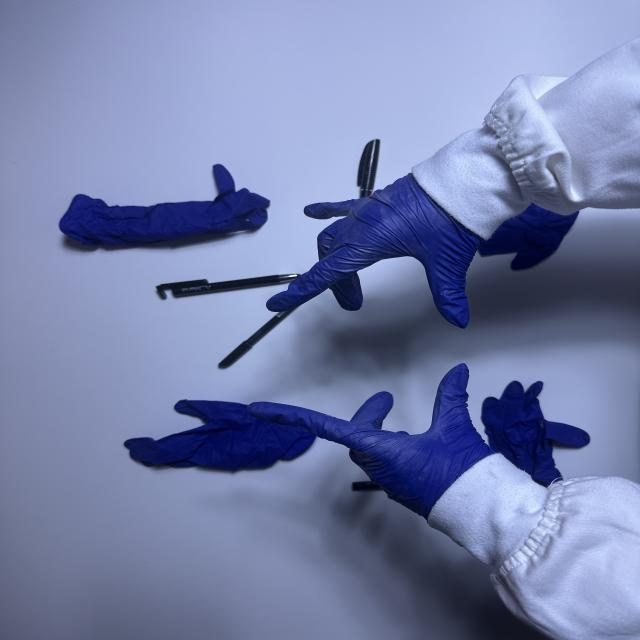gloves_contaminated: (250, 365, 493, 518), (268, 174, 480, 328)
